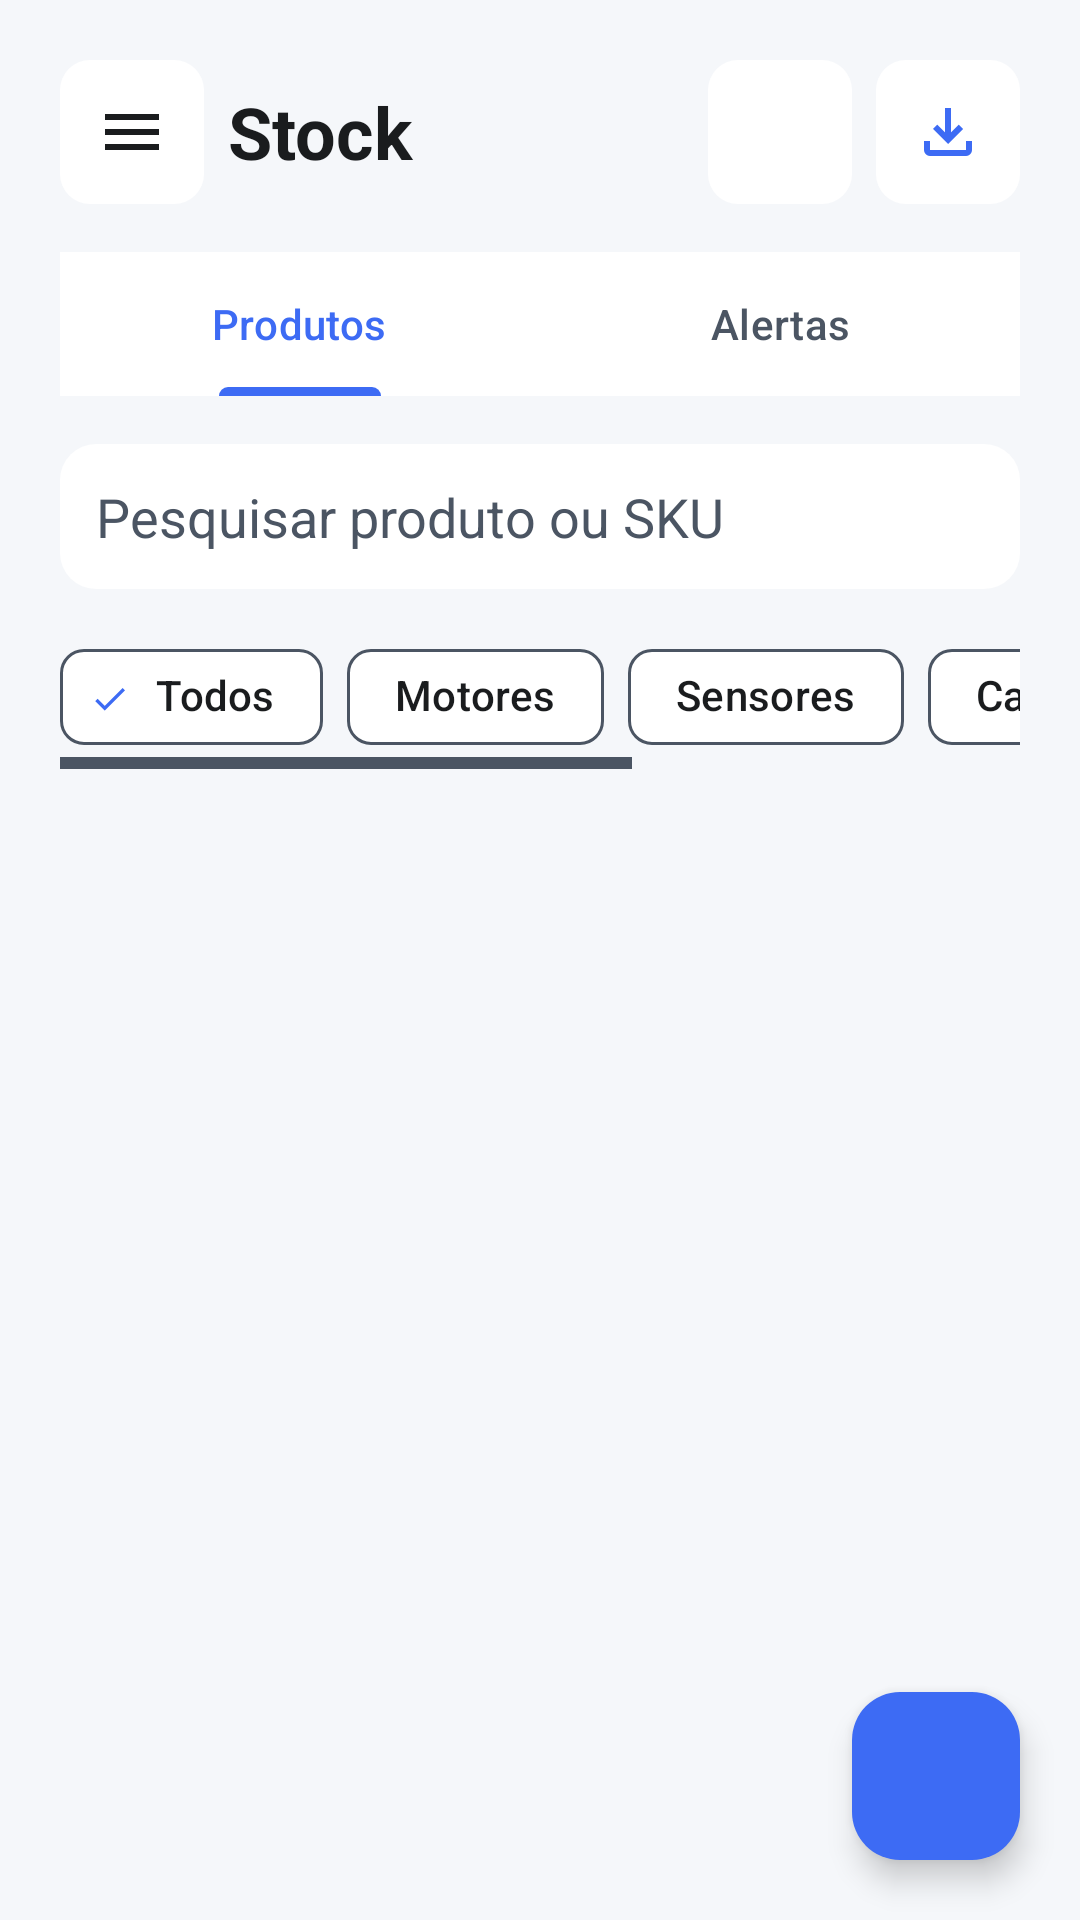

Icons on this 1080×1920 Android screen, each with its box as (x1, y1, x2, y2):
Abrir menu: (105, 114, 159, 150)
Exportar dados: (876, 60, 1020, 204)
